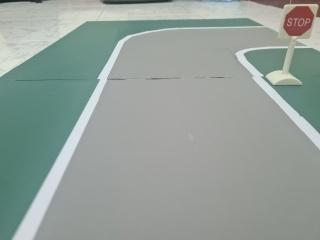stop: (275, 0, 317, 45)
